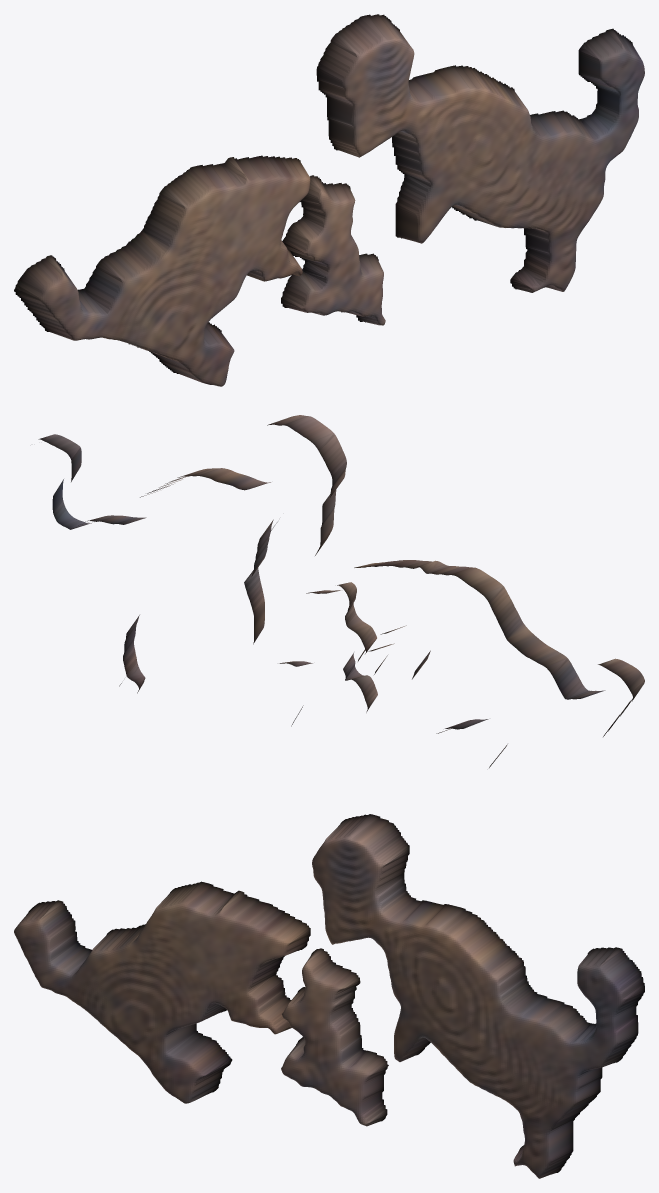
Rendered from rock_9_hollow.glb.
3 views of the same model, one above another, from view 1: azimuth 30°, elevation 25°; view 2: azimuth 150°, elevation 25°; view 3: azimuth 330°, elevation 25° (orthographic).
Parts seen in each view (by area): view 1: GLTF; view 2: GLTF; view 3: GLTF.
Part boxes in pixels (<box>): GLTF: <box>14,14,644,386</box>; GLTF: <box>38,415,644,767</box>; GLTF: <box>14,814,644,1178</box>.
Bounding box in the file's own units: 7.65 × 3.76 × 0.57.
